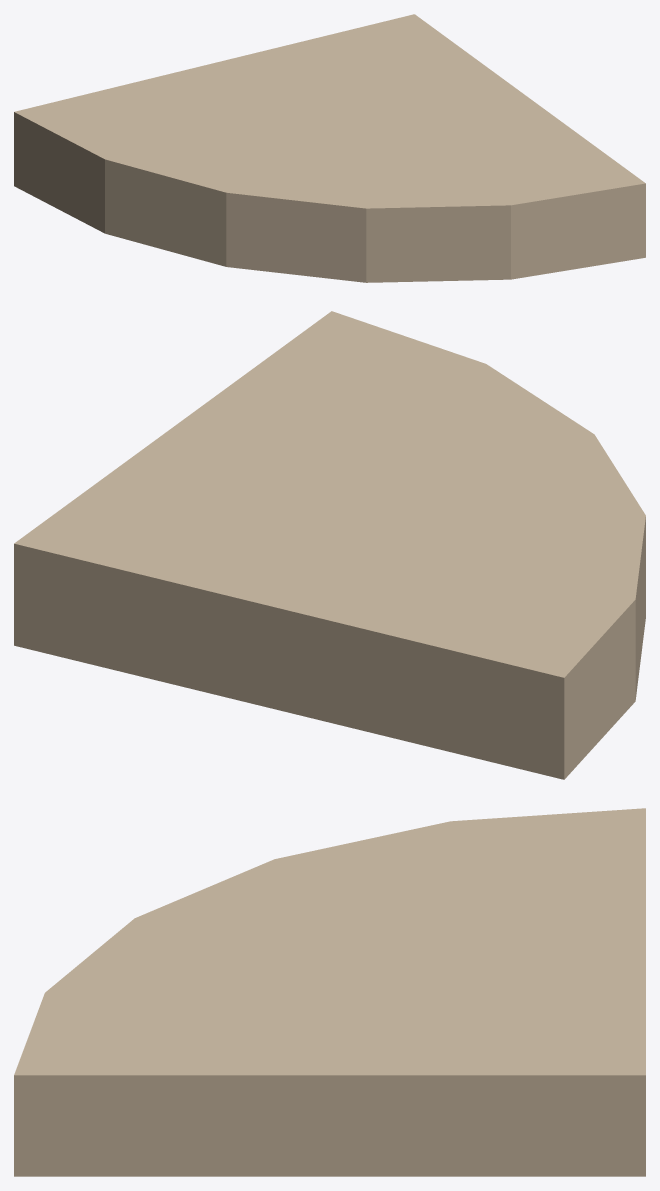
Rendered from SideWalkCorner.fbx.
3 views of the same model, one above another, from view 1: azimuth 30°, elevation 25°; view 2: azimuth 150°, elevation 25°; view 3: azimuth 270°, elevation 25° (orthographic). The views are drawn at different scales.
Parts seen in each view (by area): view 1: sidewalk corrner; view 2: sidewalk corrner; view 3: sidewalk corrner.
Boxes of the visible parts, bbox=[...] form: sidewalk corrner: bbox=[14, 14, 645, 282]; sidewalk corrner: bbox=[14, 311, 645, 779]; sidewalk corrner: bbox=[14, 808, 645, 1176].
Bounding box in the file's own units: 402 × 71.17 × 402.
